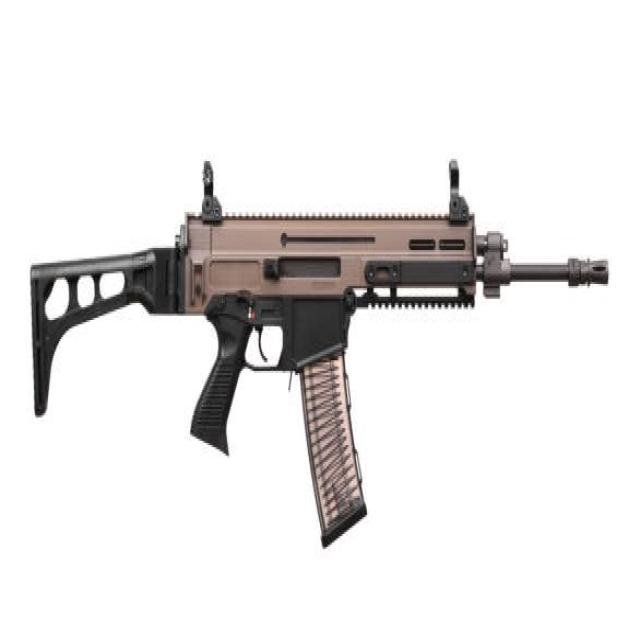rifle: (25, 144, 615, 553)
